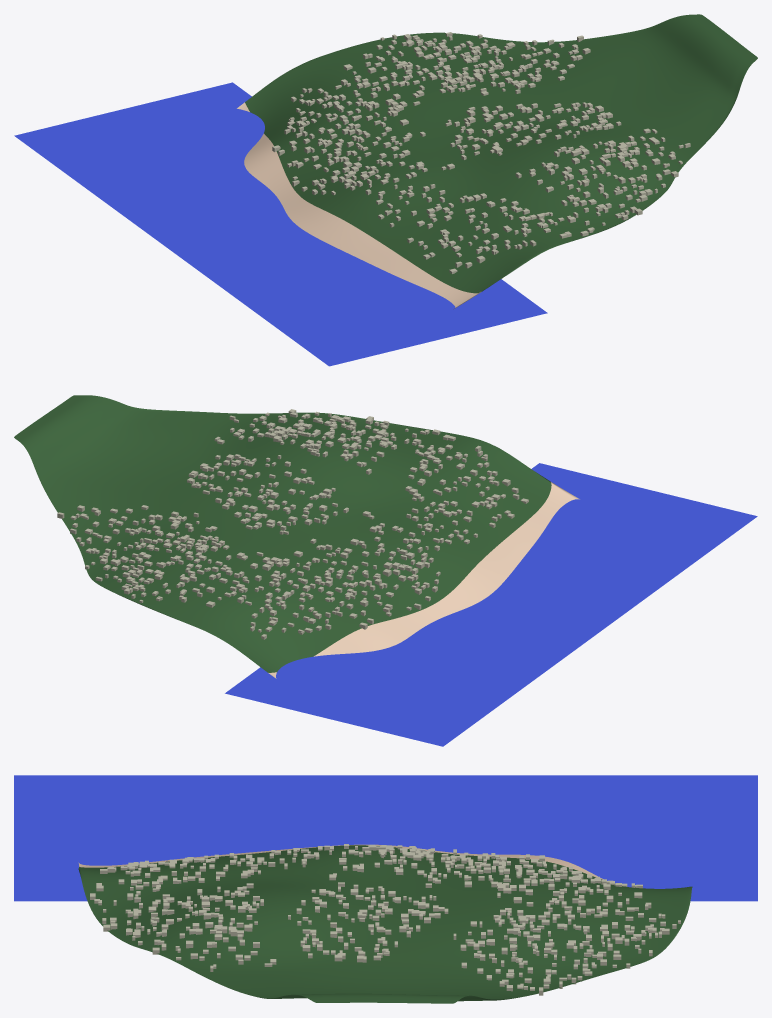
Rendered from city_childhood.fbx.
3 renders of one model, top to bottom at view 1: azimuth 30°, elevation 25°; view 2: azimuth 150°, elevation 25°; view 3: azimuth 270°, elevation 25°, orthographic. The views are drawn at different scales.
Visible parts, largest first — view 1: Plane.002, Plane.001; view 2: Plane.002, Plane.001; view 3: Plane.001, Plane.002.
Boxes of the visible parts, box(x1,y1,x2,y2) form: Plane.002: box(237, 14, 757, 309); Plane.001: box(14, 82, 547, 366); Plane.002: box(14, 395, 579, 678); Plane.001: box(225, 463, 757, 746); Plane.001: box(14, 775, 757, 901); Plane.002: box(78, 844, 692, 1003).
Bounding box in the file's own units: 558 × 95.71 × 545.
